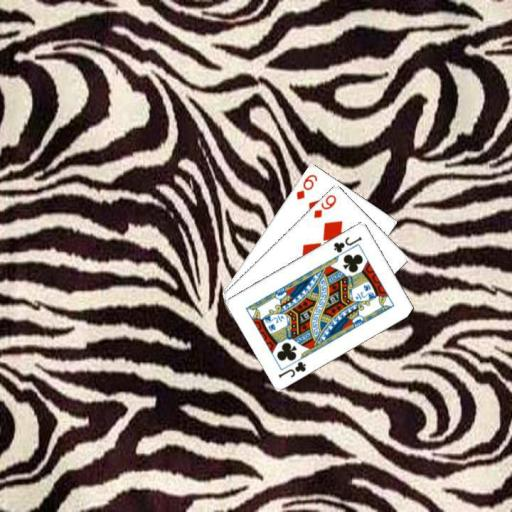6D: (293, 171, 319, 201)
9D: (311, 191, 338, 219)
JC: (330, 233, 363, 254), (275, 358, 308, 379)
